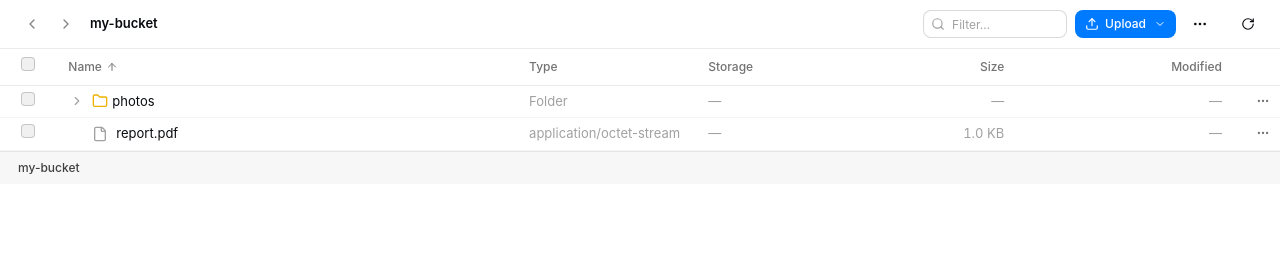
Test: ObjectBrowser folder disclosure triangle › expanding a folder fetches and renders its children indented
The image size is (1280, 257).
Click the button with test id "disclosure-photos/" at x=77, y=101, box [68,92,86,110]
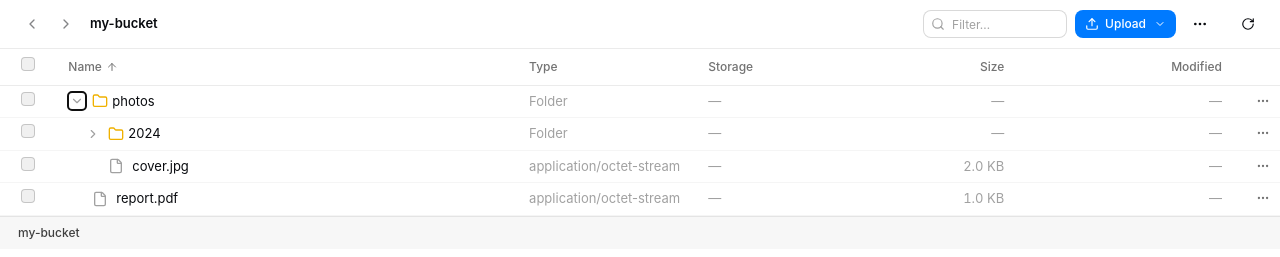
Check: the text "2024" is shown, box [128,125,161,141]
Check: the text "cover.jpg" is shown, box [132,158,189,174]
Check: the button with test id "disclosure-photos/" is expanded, box [68,92,86,110]
